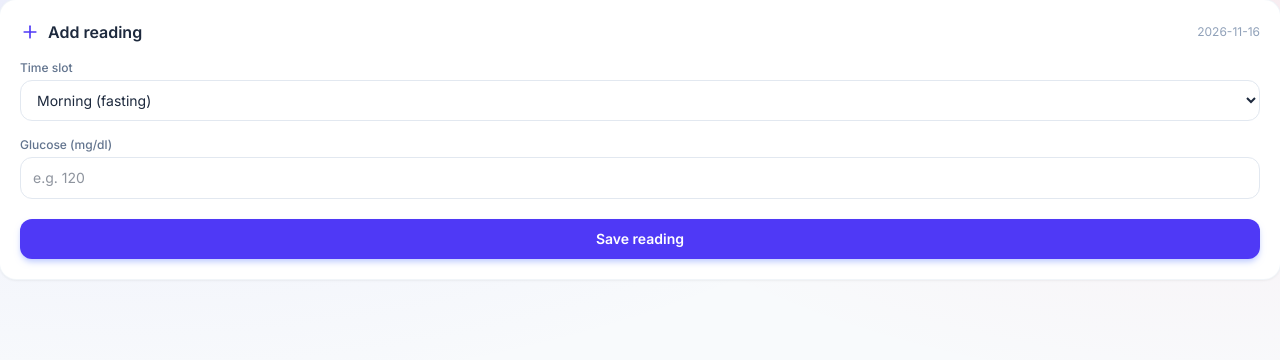
Test: displays the duplicate-slot error from the API
The width and height of the screenshot is (1280, 360).
Type "130" into the number field with placeholder "e.g. 120" at point(640, 178), box [20, 157, 1260, 199]
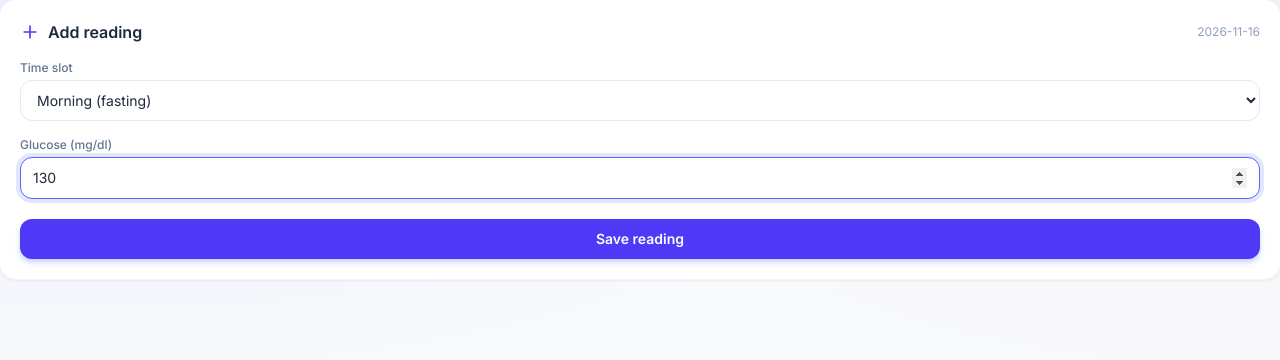
Click the button "Save reading" at point(640, 239), box [20, 219, 1260, 259]
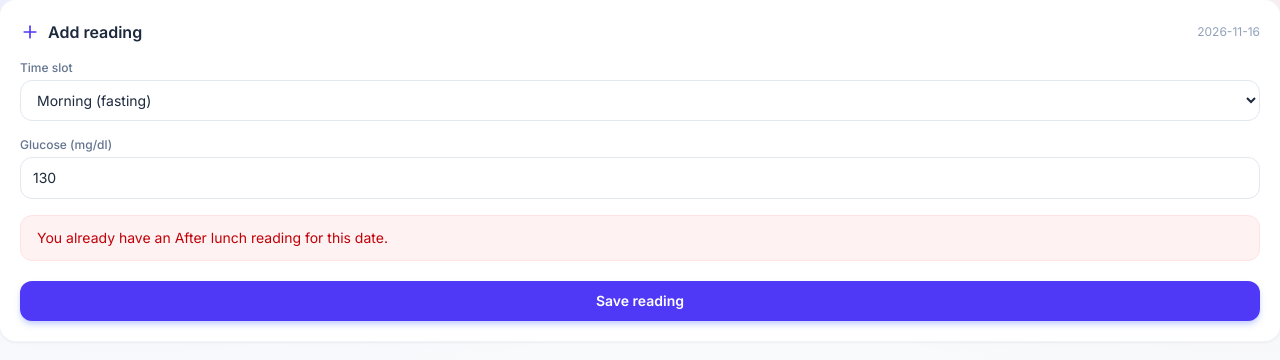
Check: the message shows "After lunch reading", box [37, 229, 388, 246]
